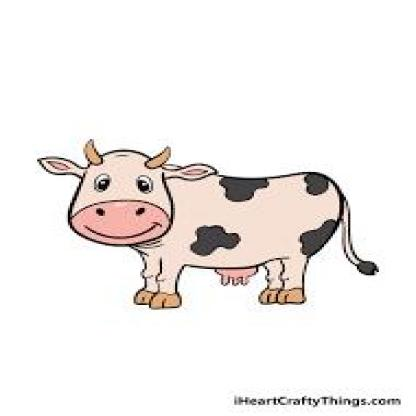cow: (41, 151, 347, 307)
